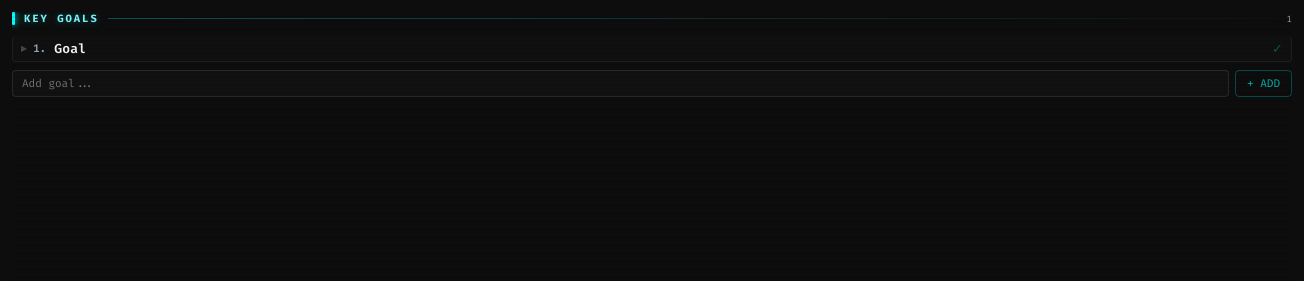
the editor opens on double-click of the title
The image size is (1304, 281).
Expected: the field with placeholder "description" is not shown
Double-click the text "Goal": (70, 48) [54,40,86,57]
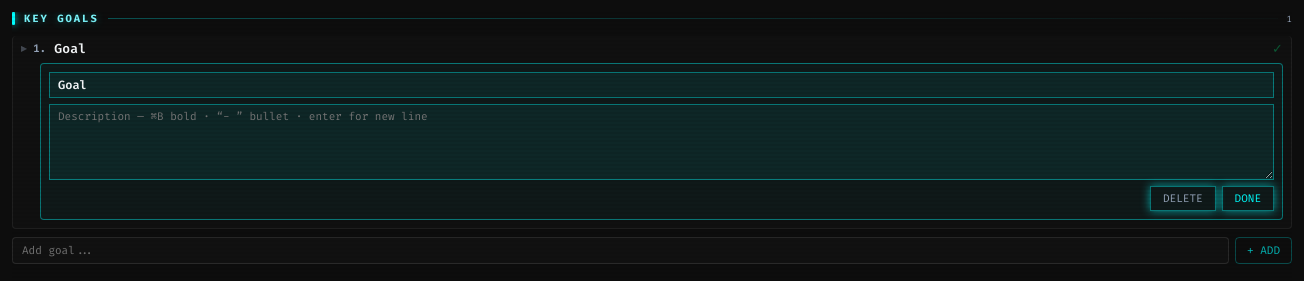
Now the text box with placeholder "Description — ⌘B bold · “- ” bullet · enter for new line" is shown, box [49,104,1274,180]
